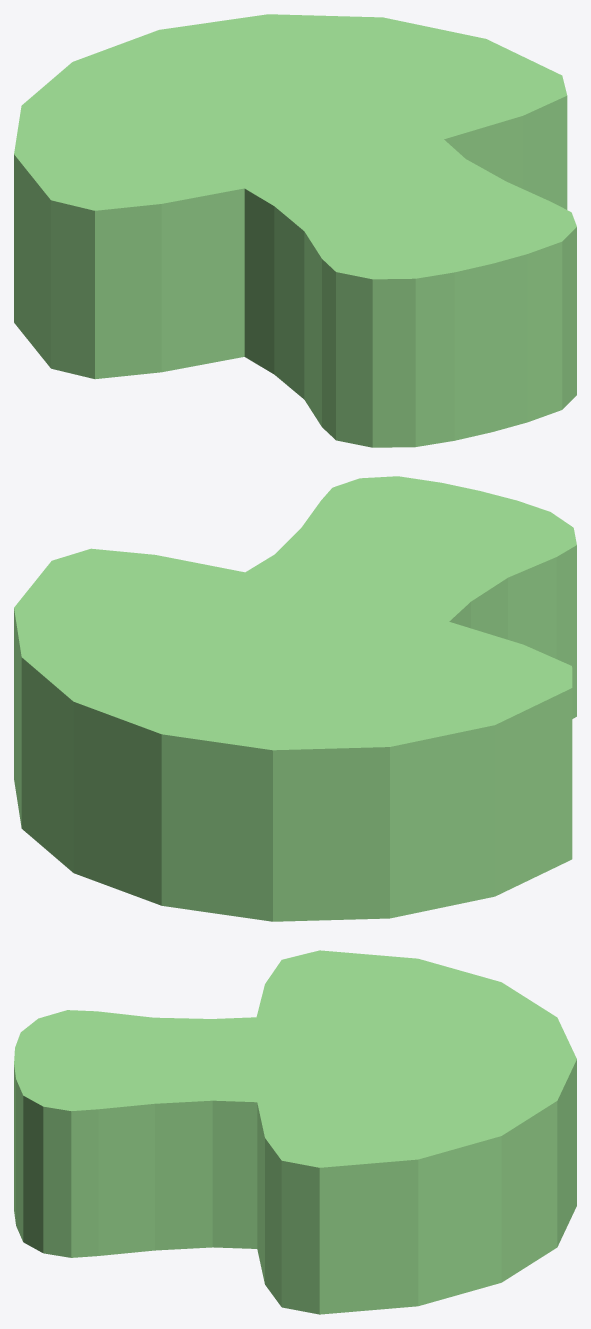
File: Earth Terrain.fbx
The picture shows the model from 3 angles, top to bottom: view 1: azimuth 30°, elevation 25°; view 2: azimuth 150°, elevation 25°; view 3: azimuth 270°, elevation 25°; orthographic projection. The views are drawn at different scales.
Parts seen in each view (by area): view 1: EarthTerrain; view 2: EarthTerrain; view 3: EarthTerrain.
Part boxes in pixels (x1,y1,x2,y2): EarthTerrain: [14, 14, 576, 447]; EarthTerrain: [14, 476, 576, 921]; EarthTerrain: [14, 950, 576, 1314].
Bounding box in the file's own units: 1839 × 579 × 2012.
